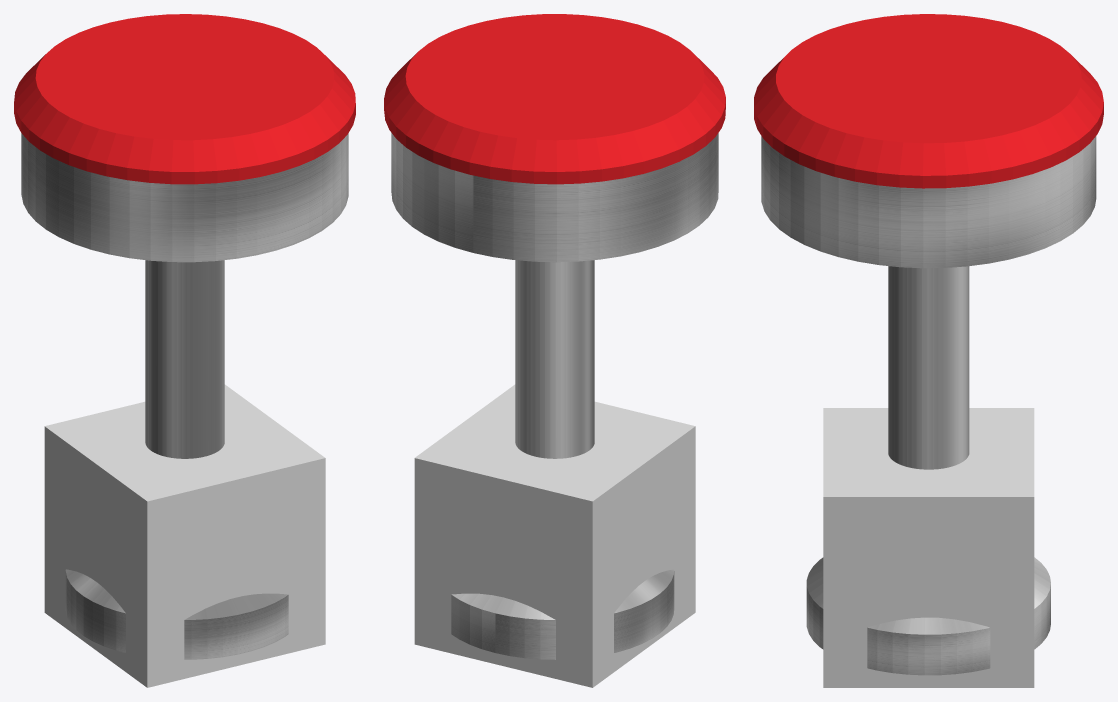
The model's file is 50's Dinner Stool.fbx.
The picture shows the model from 3 angles, left to right: view 1: azimuth 30°, elevation 25°; view 2: azimuth 150°, elevation 25°; view 3: azimuth 270°, elevation 25°; orthographic projection. The views are drawn at different scales.
Visible parts, largest first — view 1: Cube, Cushion, Metal, Leg; view 2: Cube, Cushion, Metal, Leg; view 3: Cushion, Cube, Metal, Leg.
Boxes of the visible parts, x1,y1,x2,y2 form: Cube: [44, 384, 325, 687]; Cushion: [14, 14, 355, 184]; Metal: [21, 133, 348, 262]; Leg: [65, 260, 288, 659]; Cube: [414, 384, 695, 687]; Cushion: [384, 14, 725, 184]; Metal: [391, 133, 718, 262]; Leg: [451, 260, 674, 659]; Cushion: [754, 14, 1103, 188]; Cube: [823, 408, 1034, 687]; Metal: [761, 136, 1096, 268]; Leg: [806, 266, 1050, 675].
Bounding box in the file's own units: 332 × 591 × 332.
